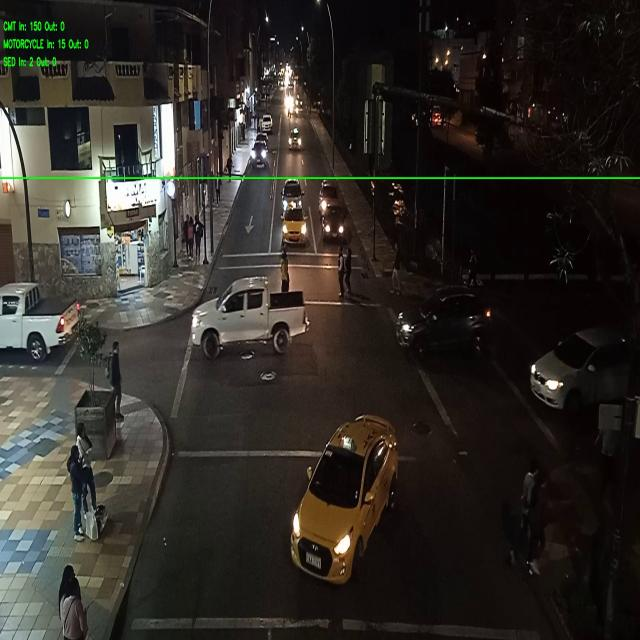CMT: (195, 280, 308, 350), (0, 285, 77, 359)
SED: (287, 422, 393, 572), (284, 210, 305, 243)
SUV: (398, 288, 491, 348)
